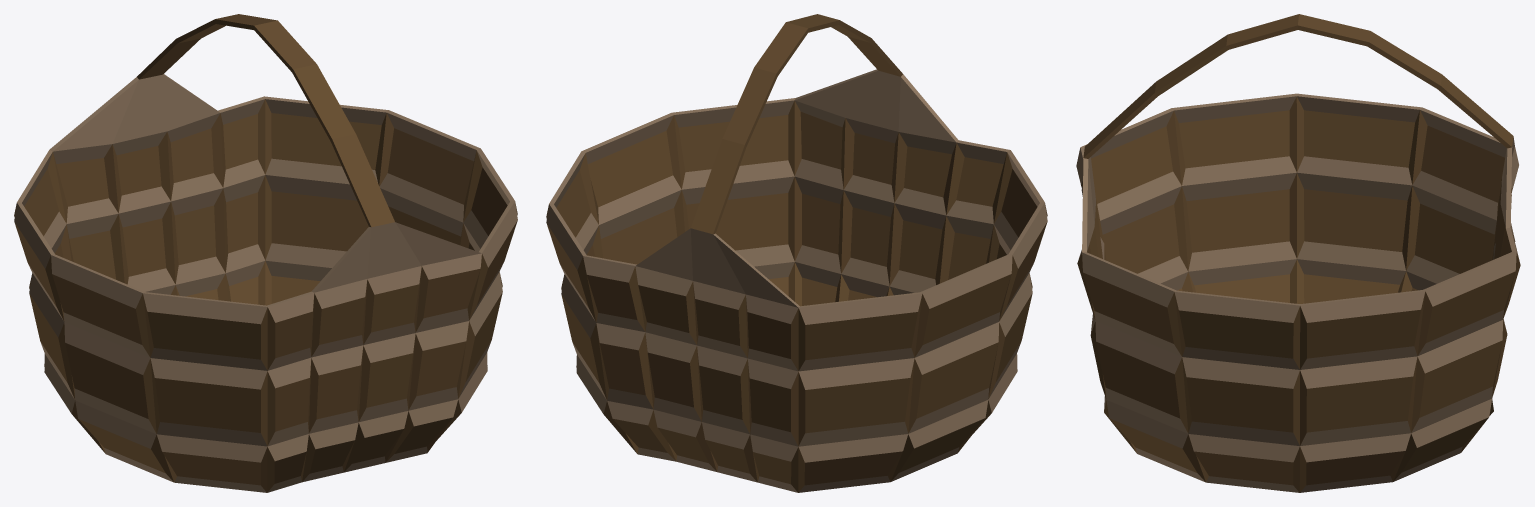
Rendered from Wicker_basket.glb.
3 renders of one model, left to right at view 1: azimuth 30°, elevation 25°; view 2: azimuth 150°, elevation 25°; view 3: azimuth 270°, elevation 25°, orthographic.
Parts seen in each view (by area): view 1: Wicker basket; view 2: Wicker basket; view 3: Wicker basket.
Part boxes in pixels (x1,y1,x2,y2): Wicker basket: [14, 14, 517, 492]; Wicker basket: [546, 14, 1047, 492]; Wicker basket: [1076, 14, 1520, 492].
Size of the model in its own units: 0.0609 by 0.0522 by 0.0533.
Materials: 1 (1 with a texture image).
